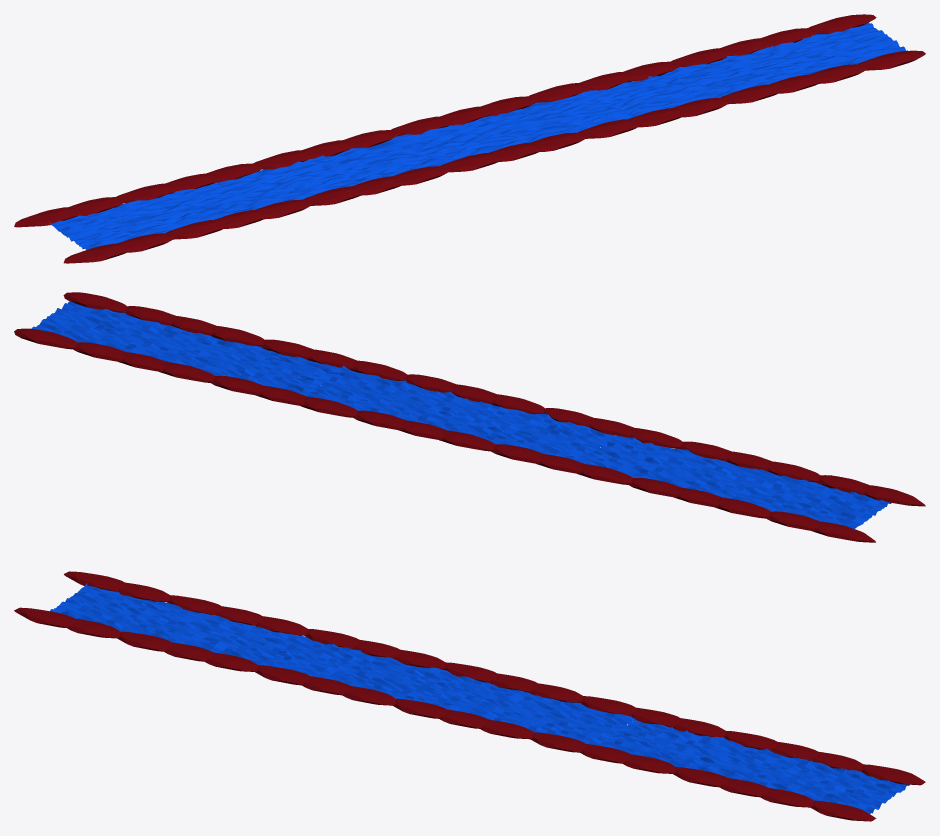
File: river2.fbx
The picture shows the model from 3 angles, top to bottom: view 1: azimuth 30°, elevation 25°; view 2: azimuth 150°, elevation 25°; view 3: azimuth 330°, elevation 25°; orthographic projection.
Visible parts, largest first — view 1: Icosphere.022, Plane.002, Plane, Plane.001; view 2: Icosphere.022, Plane.001, Plane.002, Plane; view 3: Icosphere.022, Plane, Plane.002, Plane.001.
Part boxes in pixels (x1,y1,x2,y2): Icosphere.022: (14, 14, 925, 263); Plane.002: (49, 155, 359, 249); Plane: (596, 22, 907, 116); Plane.001: (325, 90, 635, 183); Icosphere.022: (14, 292, 925, 542); Plane.001: (306, 366, 616, 461); Plane.002: (579, 435, 891, 528); Plane: (32, 301, 341, 395); Icosphere.022: (14, 571, 925, 821); Plane: (597, 718, 909, 813); Plane.002: (50, 583, 361, 677); Plane.001: (324, 651, 634, 745).
Bounding box in the file's own units: 5261 × 42.93 × 667.
